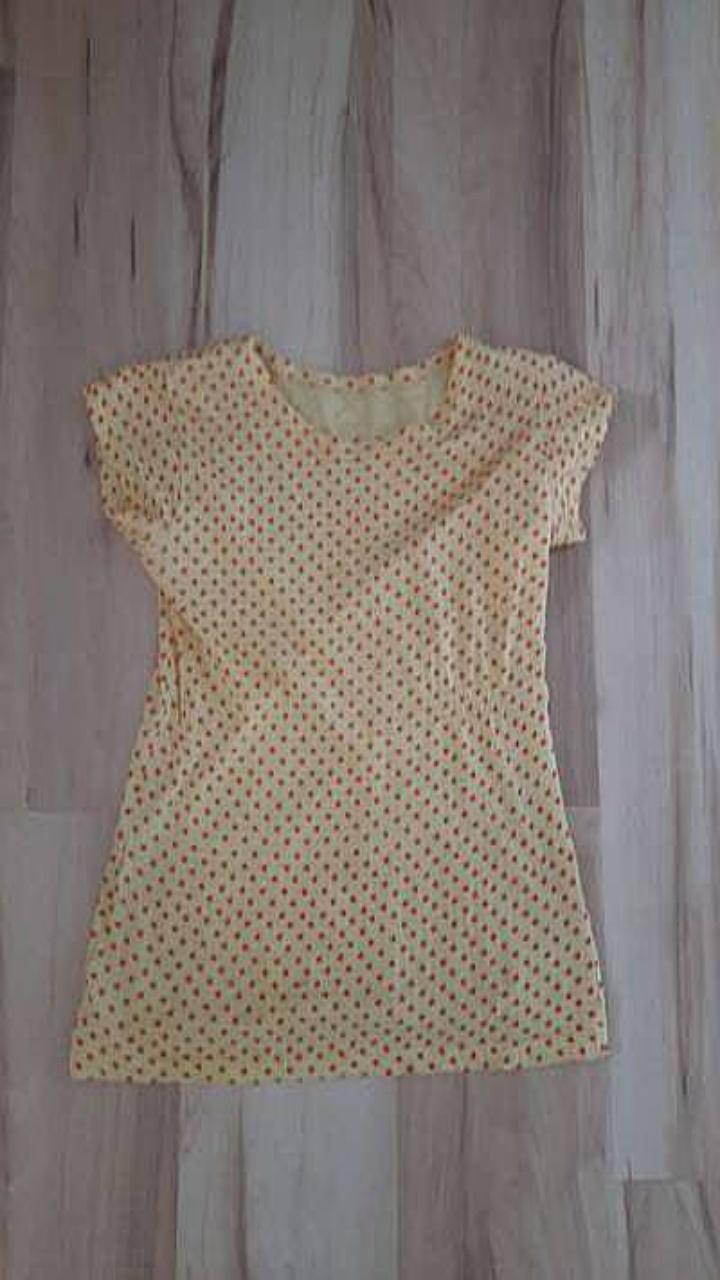T-Shirt: (70, 331, 613, 1081)
